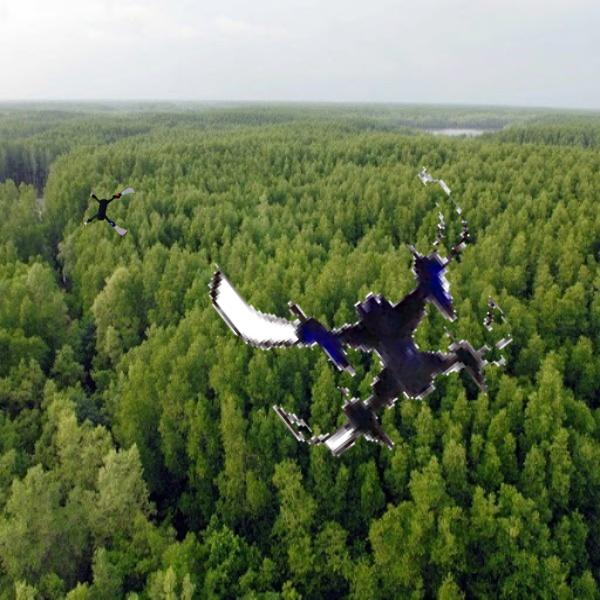drone: (225, 164, 528, 467), (82, 183, 139, 240)
